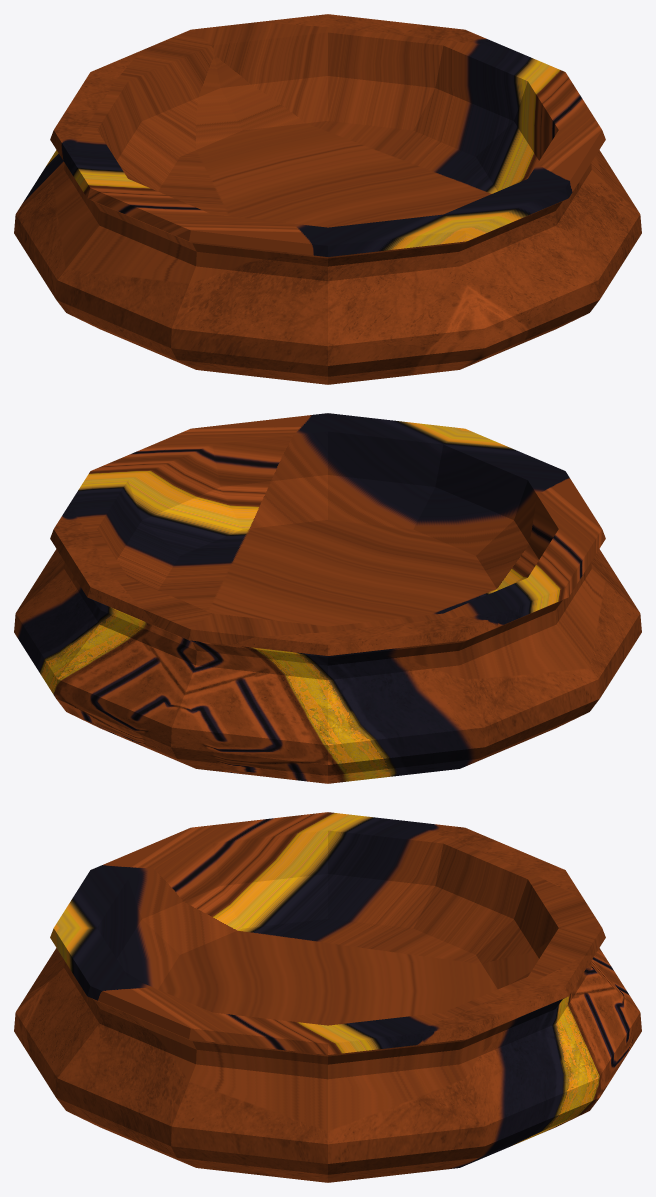
File: JAR3.fbx
3 views of the same model, one above another, from view 1: azimuth 30°, elevation 25°; view 2: azimuth 150°, elevation 25°; view 3: azimuth 270°, elevation 25° (orthographic).
Visible parts, largest first — view 1: JAR3 Low; view 2: JAR3 Low; view 3: JAR3 Low.
Boxes of the visible parts, x1,y1,x2,y2 form: JAR3 Low: (14, 14, 641, 384); JAR3 Low: (14, 413, 641, 783); JAR3 Low: (14, 812, 641, 1182).
Bounding box in the file's own units: 135 × 50.97 × 135.
